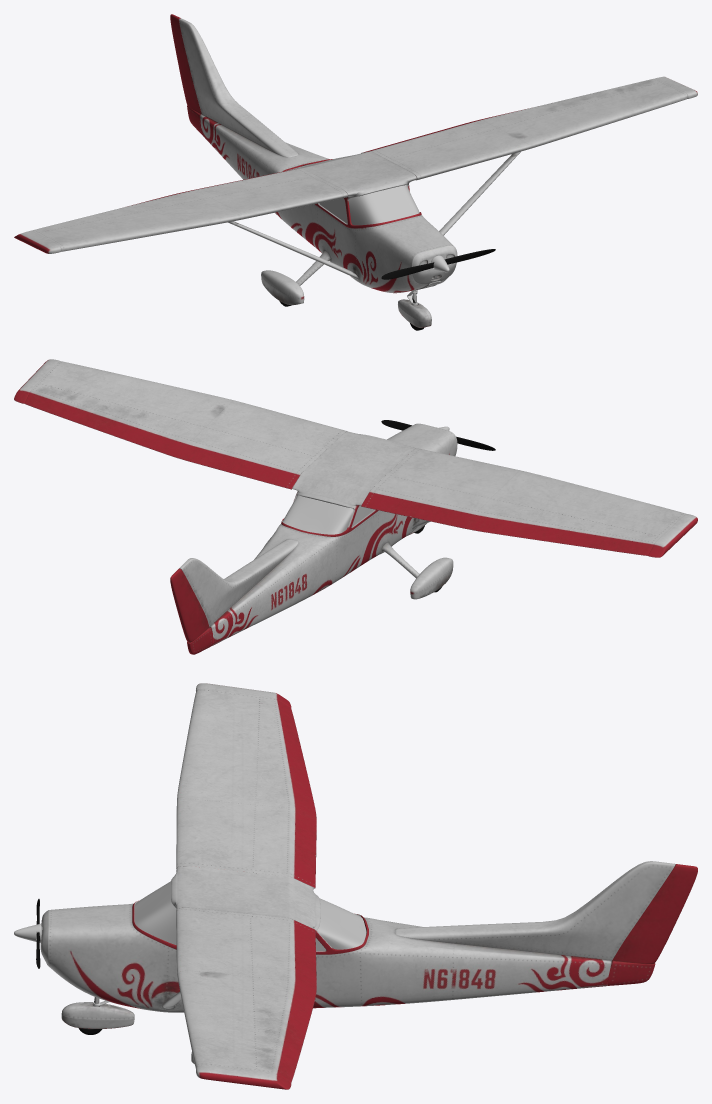
The model's file is cessna.obj.
3 renders of one model, top to bottom at view 1: azimuth 30°, elevation 25°; view 2: azimuth 150°, elevation 25°; view 3: azimuth 270°, elevation 25°, orthographic. The views are drawn at different scales.
Parts seen in each view (by area): view 1: body, glass, engine; view 2: body, glass; view 3: body, glass.
Part boxes in pixels (box(x1,y1,x2,y2)): body: box(14, 14, 697, 327); glass: box(286, 163, 419, 225); engine: box(381, 249, 495, 279); body: box(14, 359, 697, 654); glass: box(282, 495, 374, 534); body: box(40, 683, 697, 1089); glass: box(135, 881, 366, 950).
Size of the model in its own units: 14.07 by 2.88 by 10.39.
